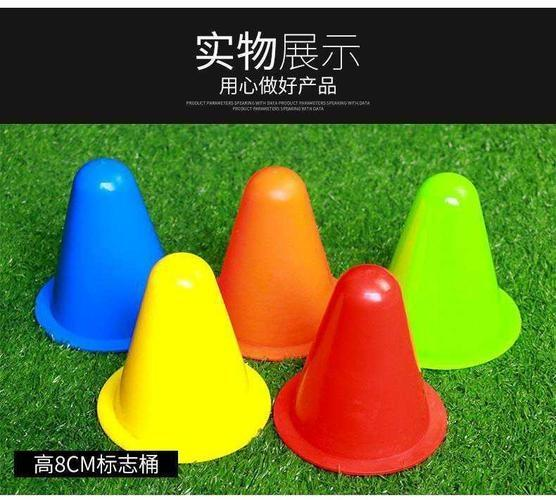cone_barrel: (96, 246, 258, 455), (281, 262, 441, 465), (384, 170, 524, 370), (30, 155, 172, 343), (209, 160, 336, 361)
